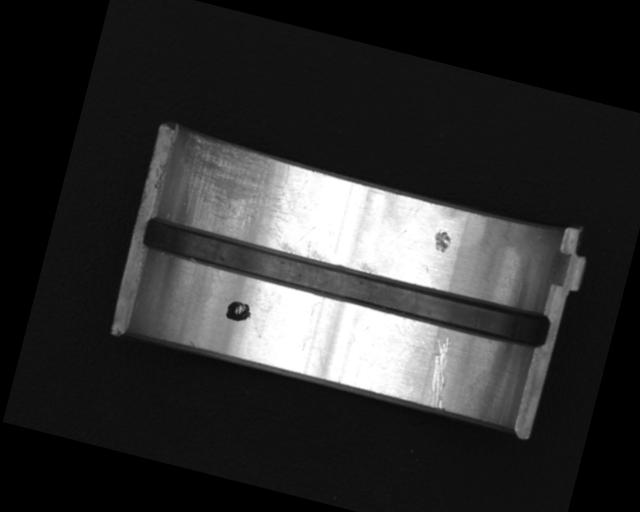blot: (222, 298, 255, 325)
bruise: (429, 227, 455, 256)
gap: (137, 211, 554, 354)
nick: (418, 334, 461, 413)
scratch: (160, 128, 319, 256)
